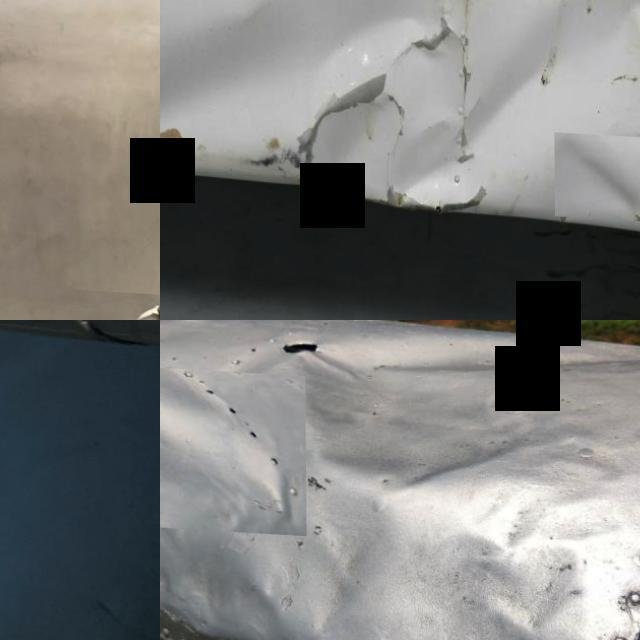Dent: (273, 344, 586, 523), (160, 0, 448, 127), (377, 485, 600, 640), (160, 363, 306, 533), (381, 51, 548, 193), (554, 127, 640, 214), (312, 101, 385, 189)
